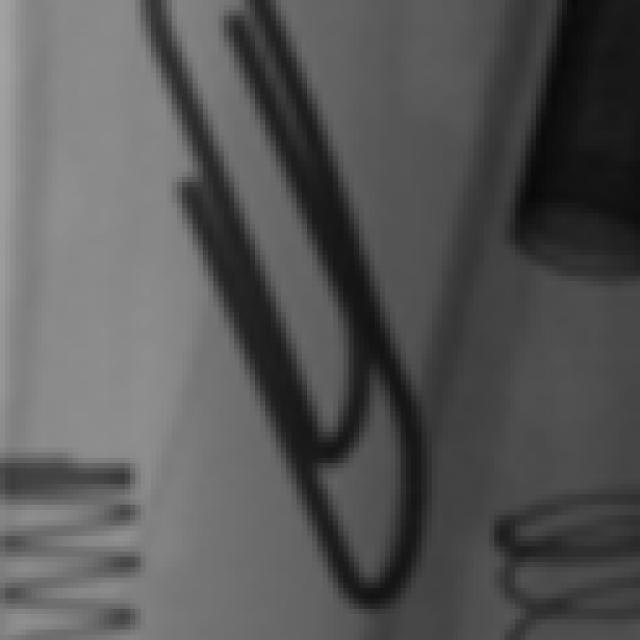BLADE: (499, 1, 640, 268)
